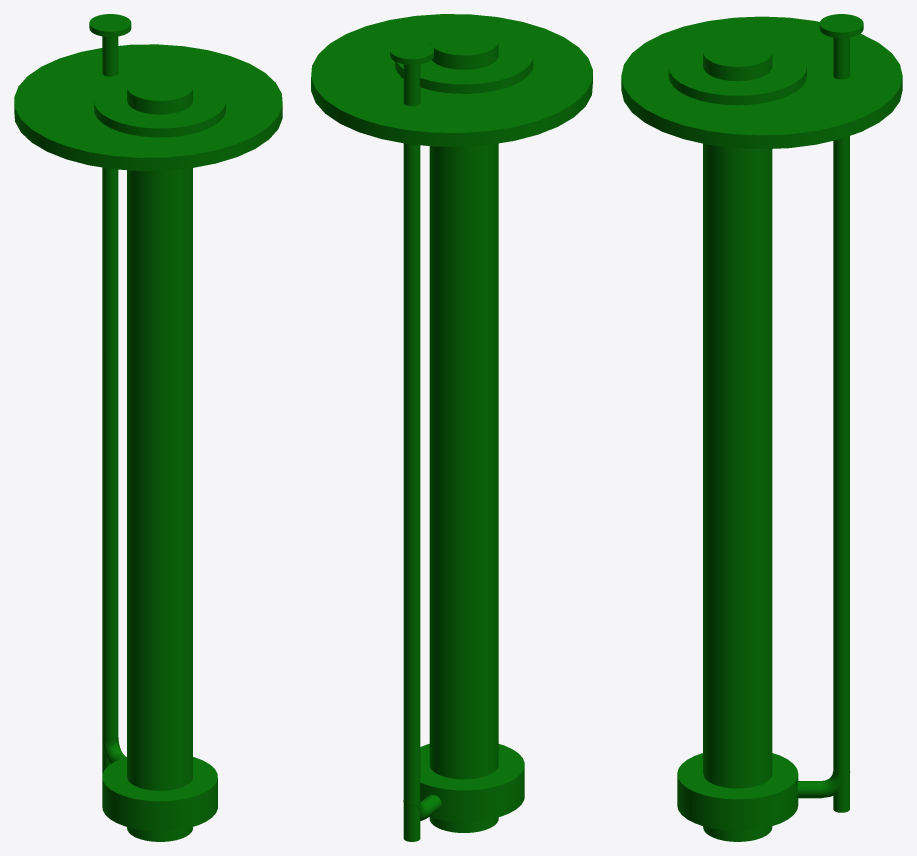
Rendered from Image-1710907700744-2280694909152_56-PH50.fbx.
The picture shows the model from 3 angles, left to right: view 1: azimuth 30°, elevation 25°; view 2: azimuth 150°, elevation 25°; view 3: azimuth 270°, elevation 25°; orthographic projection. The views are drawn at different scales.
Parts seen in each view (by area): view 1: CYLINDER 1 of SUBEQUIPMENT /56-PH50/PUMP, CYLINDER 1 of SUBEQUIPMENT /56-PH50/PRIM, /56-PH50/N3, CYLINDER 2 of SUBEQUIPMENT /56-PH50/PUMP, CYLINDER 2 of SUBEQUIPMENT /56-PH50/PRIM; view 2: CYLINDER 1 of SUBEQUIPMENT /56-PH50/PUMP, CYLINDER 1 of SUBEQUIPMENT /56-PH50/PRIM, /56-PH50/N3, CYLINDER 2 of SUBEQUIPMENT /56-PH50/PUMP, CYLINDER 2 of SUBEQUIPMENT /56-PH50/PRIM; view 3: CYLINDER 1 of SUBEQUIPMENT /56-PH50/PUMP, CYLINDER 1 of SUBEQUIPMENT /56-PH50/PRIM, /56-PH50/N3, CYLINDER 2 of SUBEQUIPMENT /56-PH50/PUMP, CYLINDER 2 of SUBEQUIPMENT /56-PH50/PRIM.
Boxes of the visible parts, x1,y1,x2,y2 form: CYLINDER 1 of SUBEQUIPMENT /56-PH50/PUMP: (127, 73, 192, 841); CYLINDER 1 of SUBEQUIPMENT /56-PH50/PRIM: (14, 44, 282, 170); /56-PH50/N3: (89, 14, 131, 773); CYLINDER 2 of SUBEQUIPMENT /56-PH50/PUMP: (102, 757, 217, 831); CYLINDER 2 of SUBEQUIPMENT /56-PH50/PRIM: (94, 72, 225, 137); CYLINDER 1 of SUBEQUIPMENT /56-PH50/PUMP: (429, 26, 498, 832); CYLINDER 1 of SUBEQUIPMENT /56-PH50/PRIM: (311, 14, 592, 146); /56-PH50/N3: (390, 40, 433, 841); CYLINDER 2 of SUBEQUIPMENT /56-PH50/PUMP: (420, 744, 524, 821); CYLINDER 2 of SUBEQUIPMENT /56-PH50/PRIM: (395, 26, 533, 93); CYLINDER 1 of SUBEQUIPMENT /56-PH50/PUMP: (703, 37, 772, 841); CYLINDER 1 of SUBEQUIPMENT /56-PH50/PRIM: (621, 16, 902, 149); /56-PH50/N3: (819, 14, 863, 812); CYLINDER 2 of SUBEQUIPMENT /56-PH50/PUMP: (677, 753, 798, 830); CYLINDER 2 of SUBEQUIPMENT /56-PH50/PRIM: (668, 37, 806, 105).
Size of the model in its own units: 0.813 by 0.813 by 2.56.
